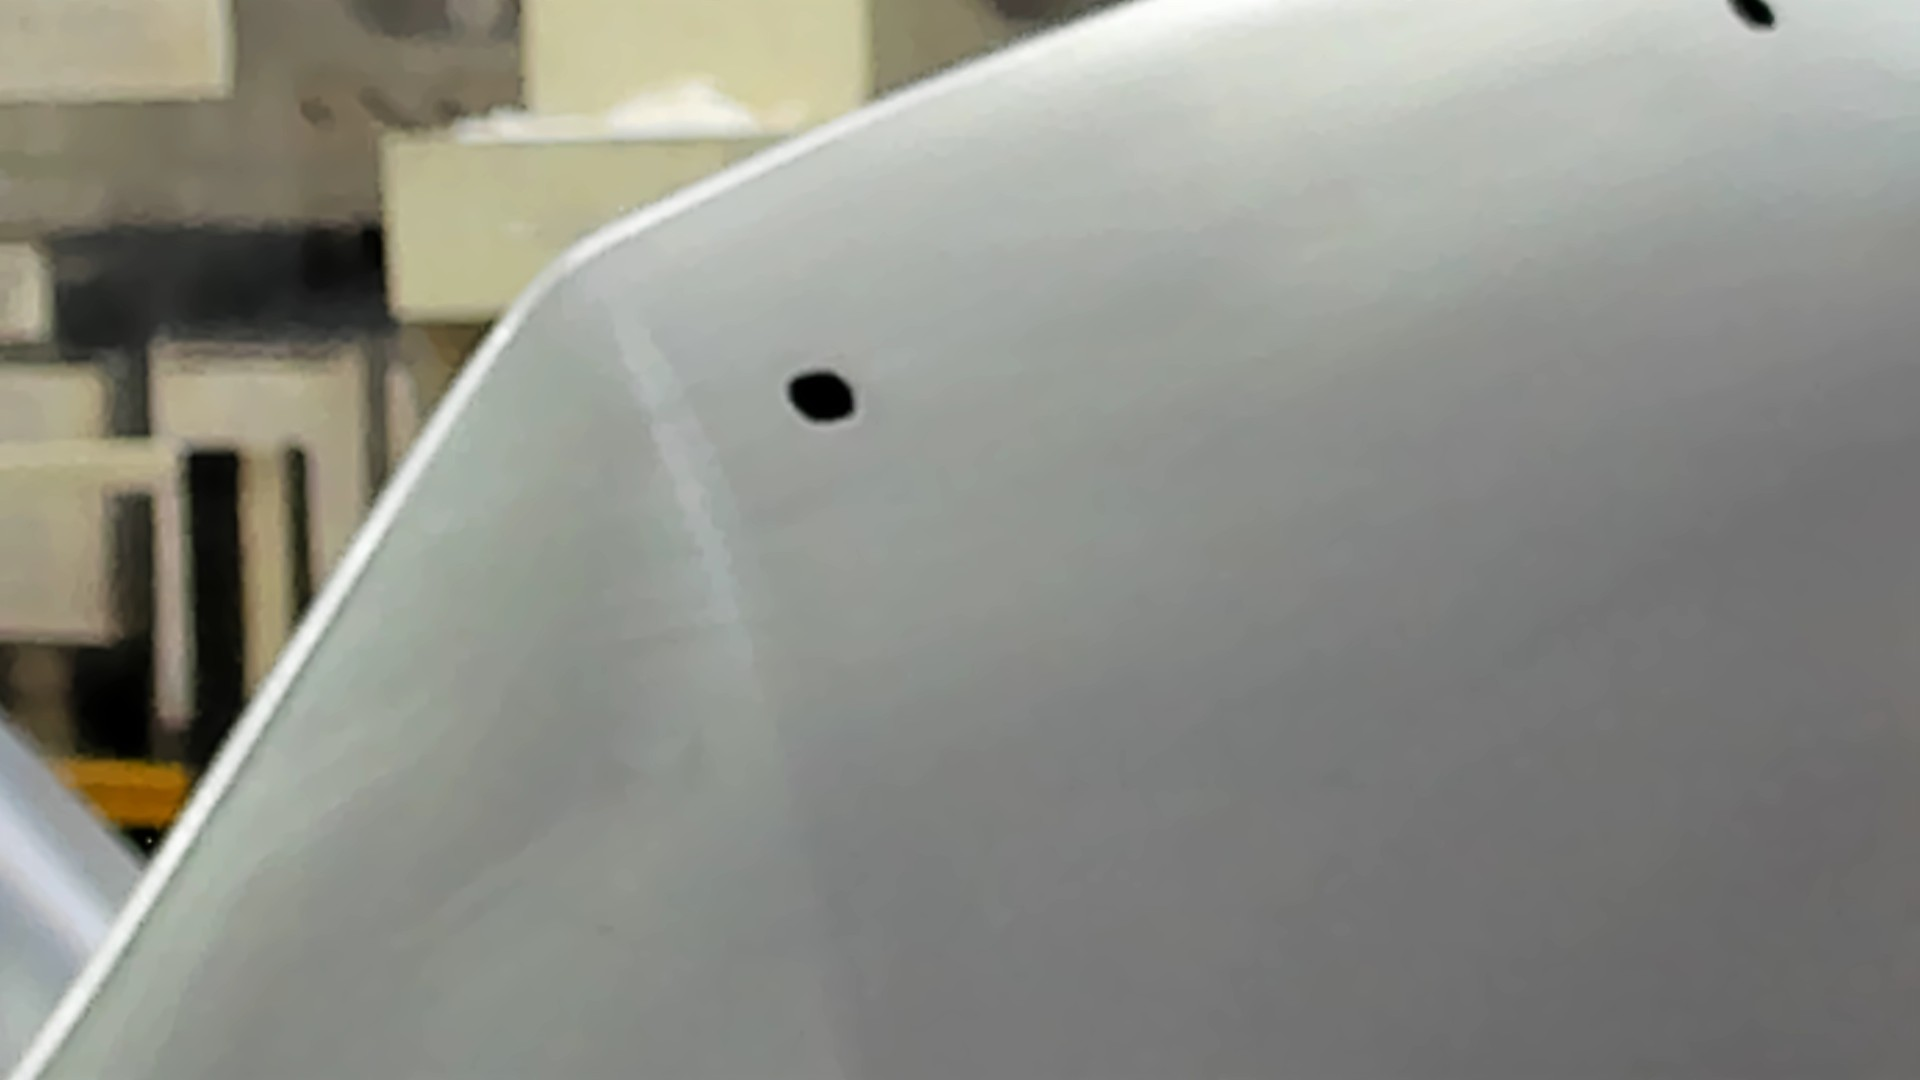amorfo: (775, 367, 866, 429), (1727, 1, 1780, 38)
